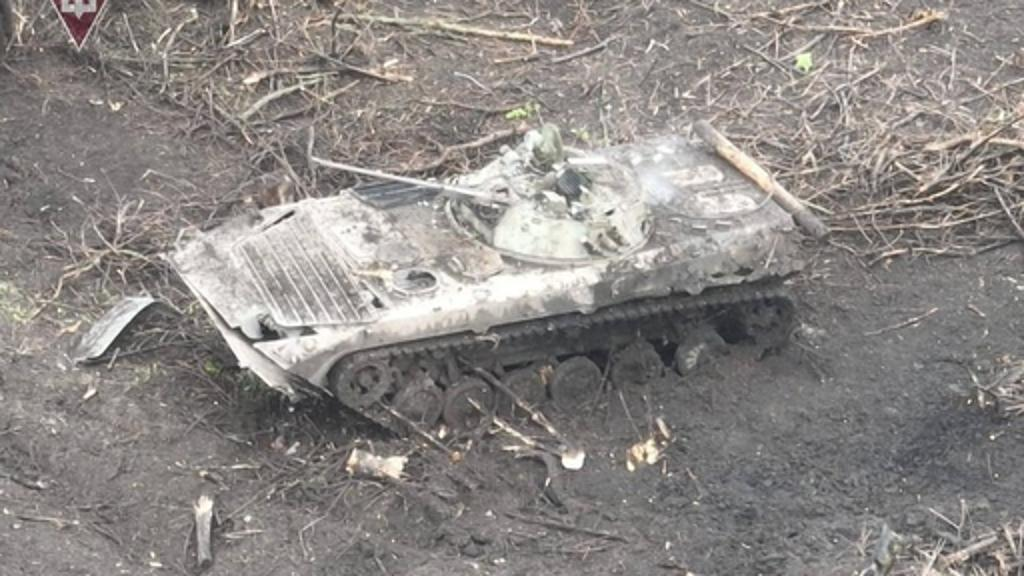APC-IFV: (154, 114, 834, 434)
